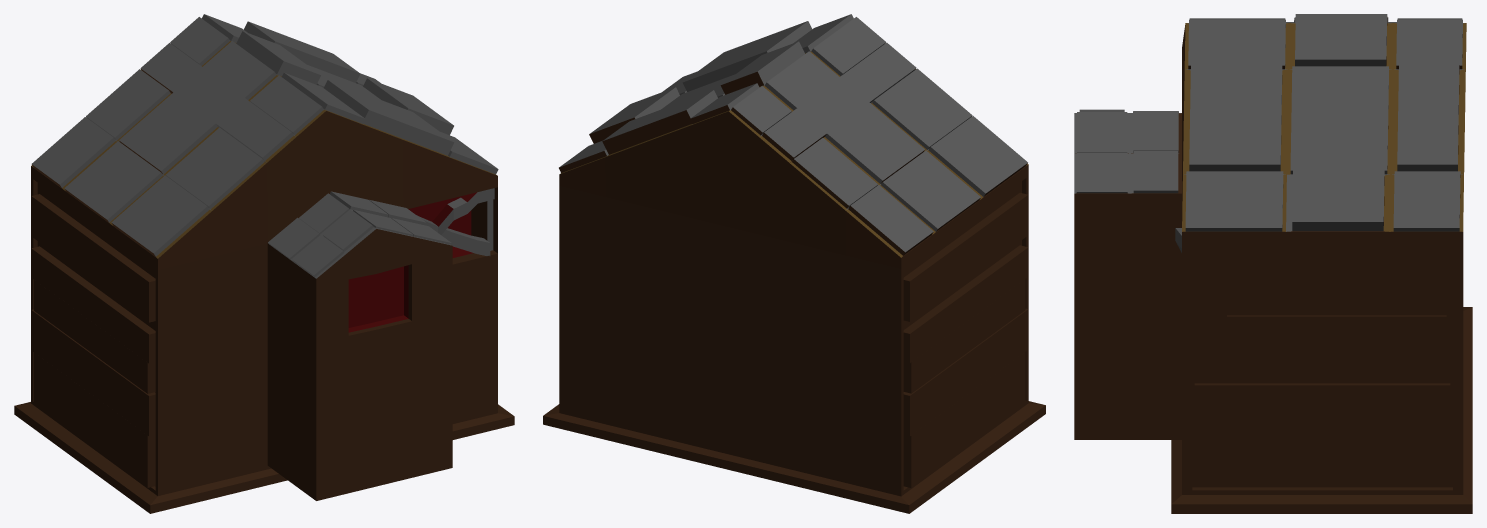
Rendered from HOUSE 1.fbx.
3 views of the same model, side by side, from view 1: azimuth 30°, elevation 25°; view 2: azimuth 150°, elevation 25°; view 3: azimuth 270°, elevation 25° (orthographic). The views are drawn at different scales.
Visible parts, largest first — view 1: Cube; view 2: Cube; view 3: Cube.
Part boxes in pixels (x1,y1,x2,y2): Cube: (14,14,514,513); Cube: (543,14,1045,513); Cube: (1074,14,1472,513).
Size of the model in its own units: 656 by 629 by 560.
